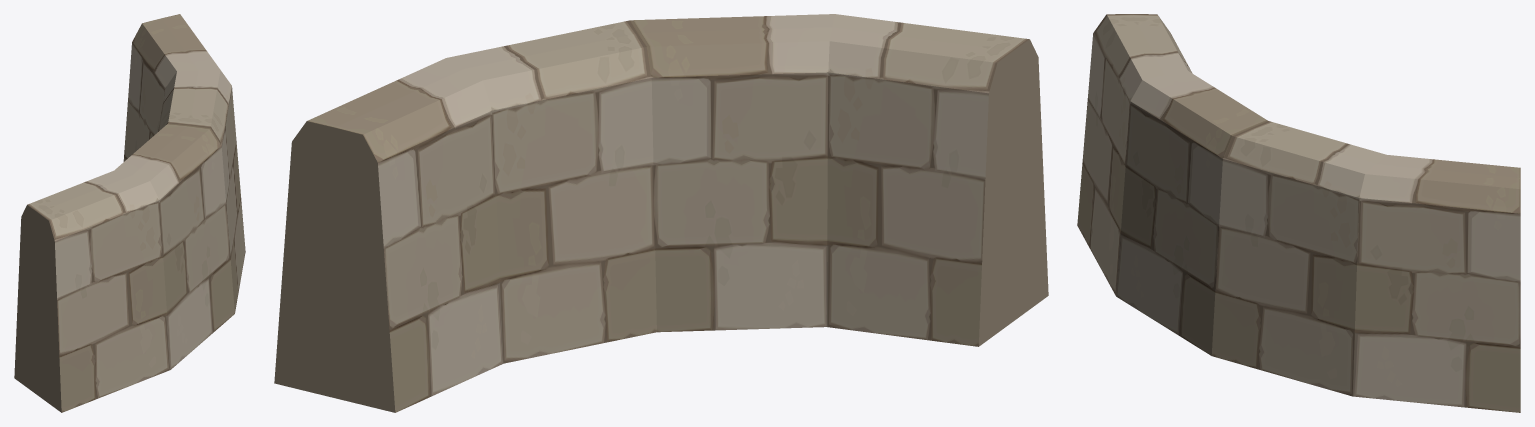
The model's file is SM_Bld_House_Base_Wall_Curved_01.fbx.
3 views of the same model, side by side, from view 1: azimuth 30°, elevation 25°; view 2: azimuth 150°, elevation 25°; view 3: azimuth 270°, elevation 25° (orthographic). The views are drawn at different scales.
Visible parts, largest first — view 1: SM_Bld_House_Base_Wall_Curved_01; view 2: SM_Bld_House_Base_Wall_Curved_01; view 3: SM_Bld_House_Base_Wall_Curved_01.
Part boxes in pixels (box(x1,y1,x2,y2)): SM_Bld_House_Base_Wall_Curved_01: box(14, 14, 245, 412); SM_Bld_House_Base_Wall_Curved_01: box(274, 14, 1048, 412); SM_Bld_House_Base_Wall_Curved_01: box(1077, 14, 1520, 412).
Bounding box in the file's own units: 285 × 150 × 285.
